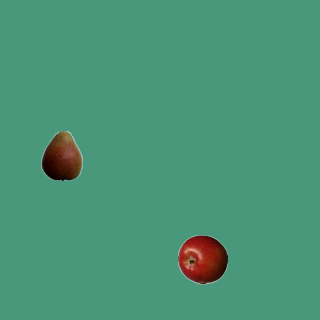Apple Braeburn: (177, 234, 227, 284)
Pear Forelle: (36, 130, 86, 180)
